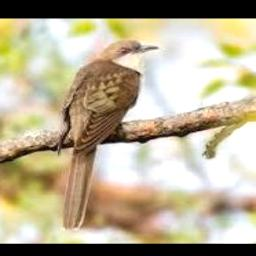Cuckoo: (59, 39, 160, 230)
